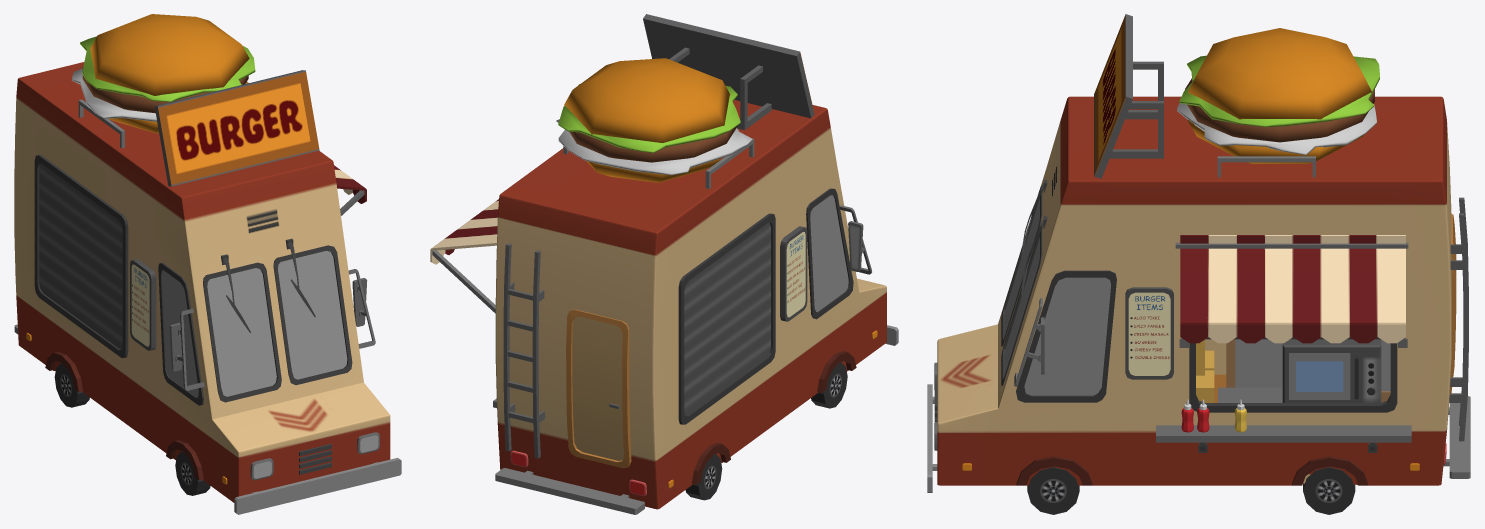
The model's file is Burger_Truck.FBX.
The picture shows the model from 3 angles, left to right: view 1: azimuth 30°, elevation 25°; view 2: azimuth 150°, elevation 25°; view 3: azimuth 270°, elevation 25°; orthographic projection. The views are drawn at different scales.
Parts seen in each view (by area): view 1: Burger_Truck, glasses; view 2: Burger_Truck, glasses; view 3: Burger_Truck, glasses.
Part boxes in pixels (left/top/right/bottom): Burger_Truck: left=14, top=14, right=401, bottom=514; glasses: left=161, top=251, right=347, bottom=397; Burger_Truck: left=430, top=14, right=898, bottom=514; glasses: left=810, top=195, right=848, bottom=312; Burger_Truck: left=927, top=14, right=1470, bottom=514; glasses: left=1004, top=198, right=1390, bottom=395.
Bounding box in the file's own units: 2.76 × 3.85 × 4.43.
Materials: 2 (1 with a texture image).
